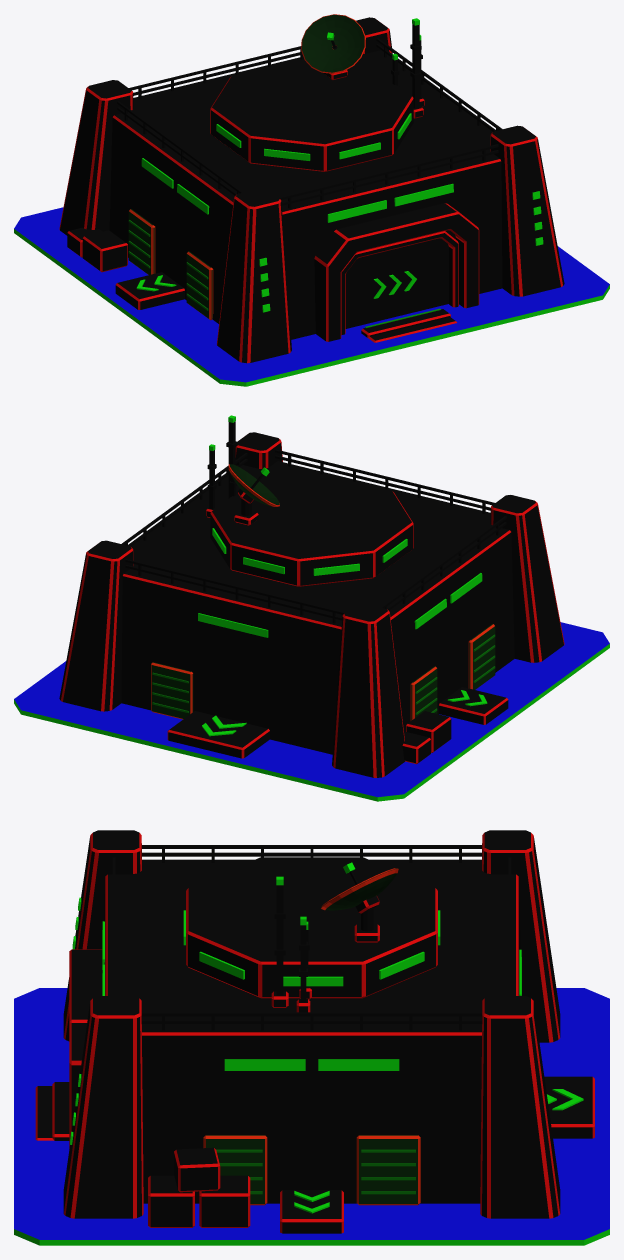
File: SM_Holo_CentralHub_T1.fbx
3 views of the same model, one above another, from view 1: azimuth 30°, elevation 25°; view 2: azimuth 150°, elevation 25°; view 3: azimuth 270°, elevation 25° (orthographic). The views are drawn at different scales.
Visible parts, largest first — view 1: SM_Holo_CentralHub_T1; view 2: SM_Holo_CentralHub_T1; view 3: SM_Holo_CentralHub_T1.
Boxes of the visible parts, x1,y1,x2,y2 form: SM_Holo_CentralHub_T1: [14, 14, 609, 386]; SM_Holo_CentralHub_T1: [14, 415, 609, 801]; SM_Holo_CentralHub_T1: [14, 830, 609, 1245].
Size of the model in its own units: 28 by 15.62 by 28.
